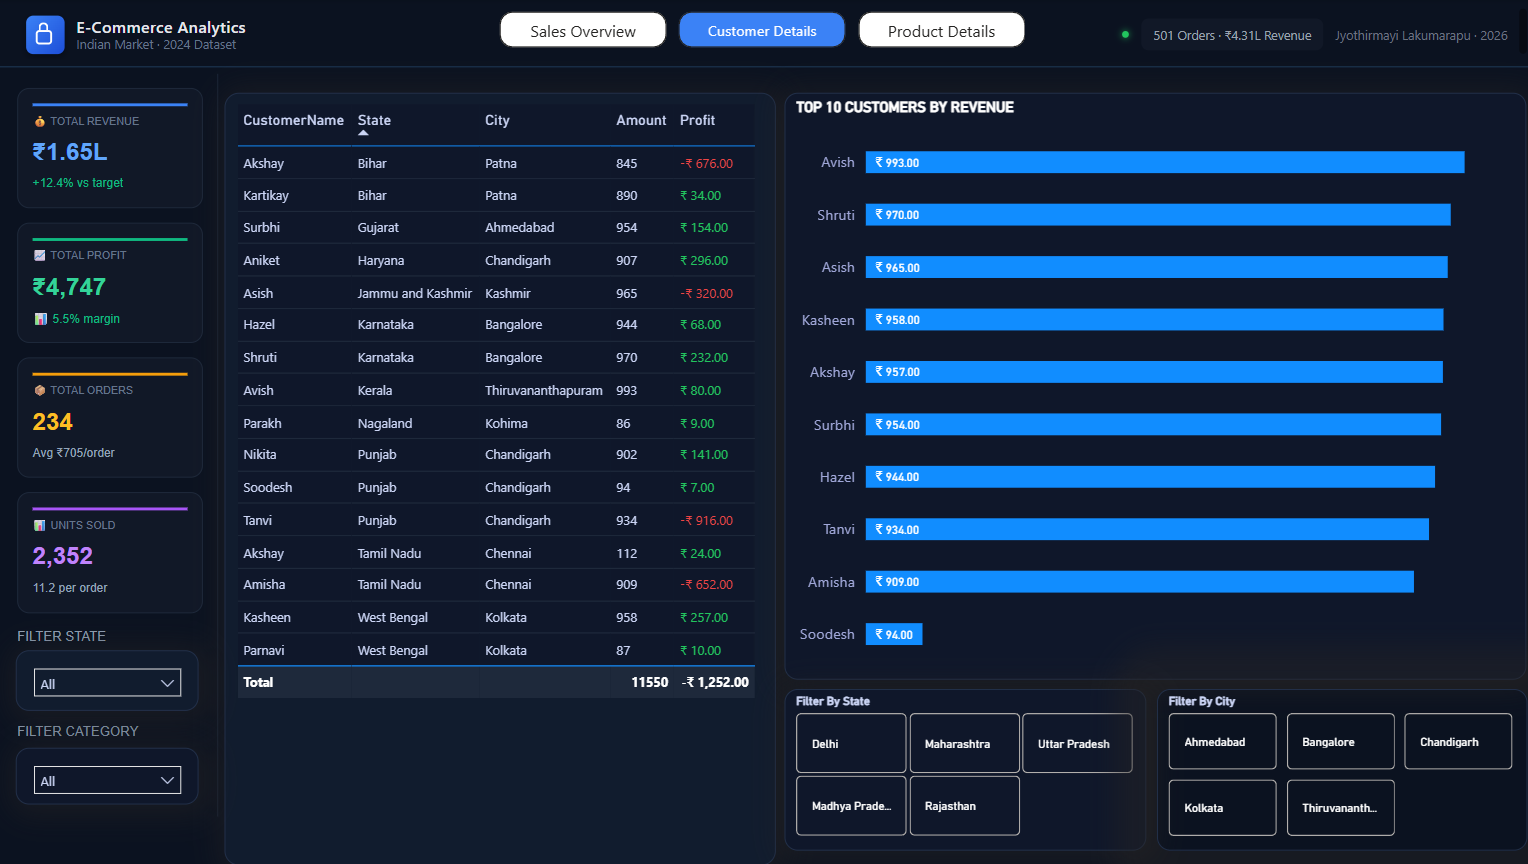

What the dashboard file says about the page in this screenshot:
{"tool":"powerbi","page":{"name":"Customer Details","canvas":[1280,720],"ordinal":1},"visuals":[{"type":"STANDALONEhtmlContent443BE3AD55E043BF878BED274D3A6855","fields":{"content":["List of Orders.Header Pixel Perfect"]},"box":[0,0,1280,57],"z":0},{"type":"STANDALONEhtmlContent443BE3AD55E043BF878BED274D3A6855","fields":{"content":["List of Orders.Sidebar HTML"]},"box":[0,57,189,663],"z":1000},{"type":"tableEx","fields":{"Values":["List of Orders.CustomerName","List of Orders.State","List of Orders.City","List of Orders.Total Amount","Order Details.Total Profit"]},"box":[189,78,458,642],"z":2000},{"type":"clusteredBarChart","title":"TOP 10 CUSTOMERS BY REVENUE","fields":{"Category":["List of Orders.CustomerName"],"Y":["Sum(Order Details.Amount)"]},"box":[655,78,617,488],"z":3000},{"type":"slicer","fields":{"Values":["List of Orders.State"]},"box":[16,541,152,50],"z":4000},{"type":"slicer","fields":{"Values":["Sales target.Category"]},"box":[16,623,152,47],"z":5000},{"type":"pageNavigator","box":[418,10,438,30],"z":6000},{"type":"advancedSlicerVisual","title":"Filter By State","fields":{"Values":["List of Orders.State"]},"box":[655,574,301,134],"z":7000},{"type":"advancedSlicerVisual","title":"Filter By City","fields":{"Values":["List of Orders.City"]},"box":[964,574,308,134],"z":8000}]}

Visuals, with their boxes in screenshot pixels (x1, y1, x2, y2), scaled from the page's 1280x720 canvas onto the 1528x864 screenshot:
STANDALONEhtmlContent443BE3AD55E043BF878BED274D3A6855 - List of Orders.Header Pixel Perfect: [0, 0, 1527, 68]
STANDALONEhtmlContent443BE3AD55E043BF878BED274D3A6855 - List of Orders.Sidebar HTML: [0, 68, 226, 863]
tableEx - List of Orders.CustomerName x List of Orders.State: [226, 94, 772, 863]
"TOP 10 CUSTOMERS BY REVENUE" clusteredBarChart: [782, 94, 1518, 679]
slicer - List of Orders.State: [19, 649, 201, 709]
slicer - Sales target.Category: [19, 748, 201, 804]
pageNavigator: [499, 12, 1022, 48]
"Filter By State" advancedSlicerVisual: [782, 689, 1141, 850]
"Filter By City" advancedSlicerVisual: [1151, 689, 1518, 850]
